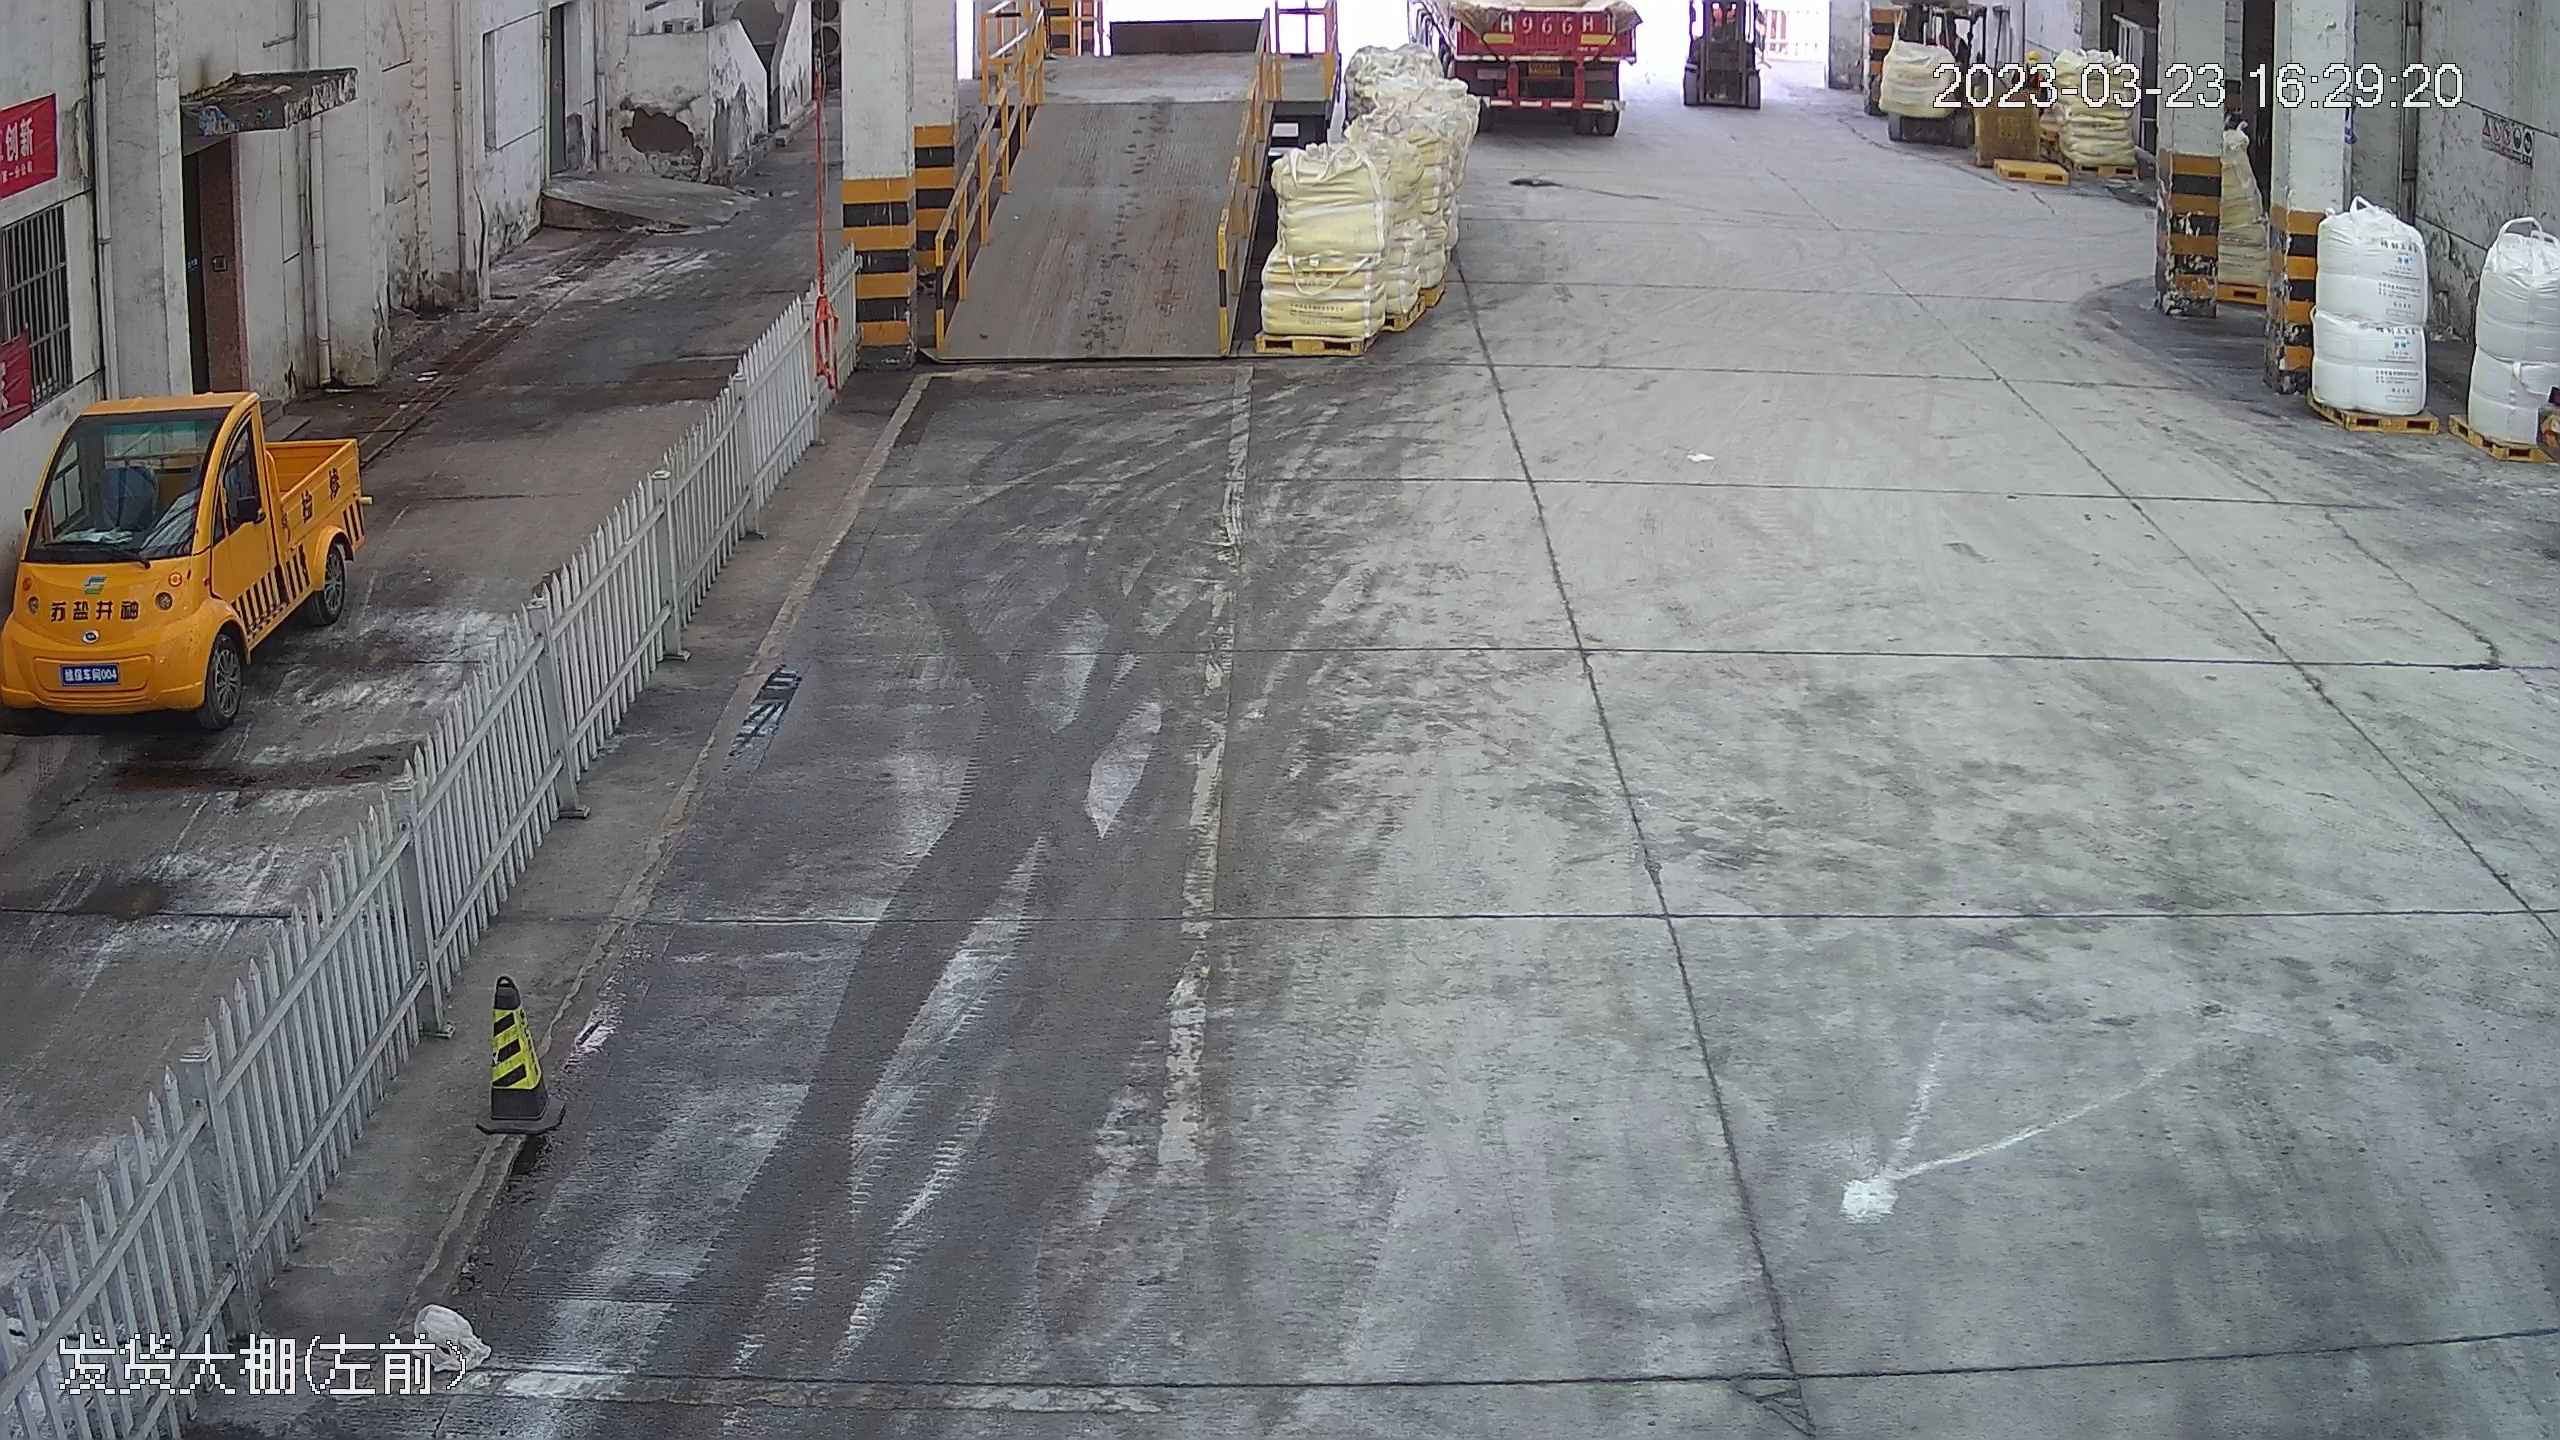truck: (1415, 2, 1647, 128)
